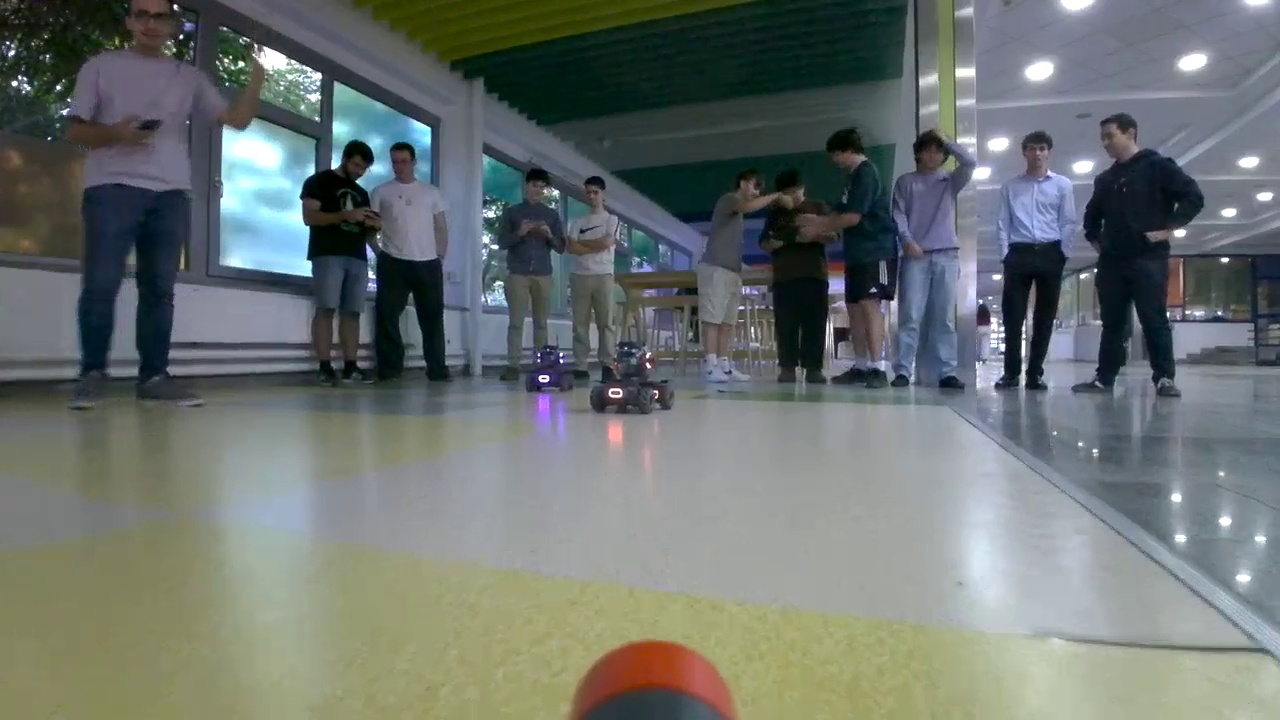robot: (592, 343, 677, 415), (526, 345, 569, 391)
